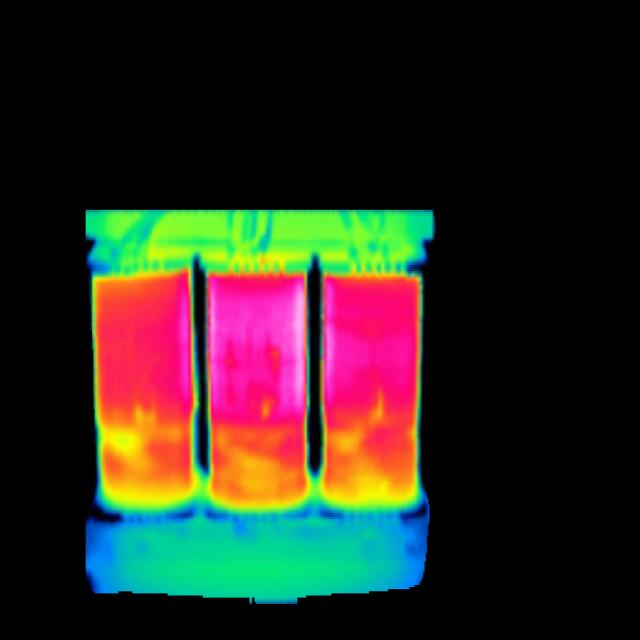Transformer Overload: (90, 258, 420, 510)
